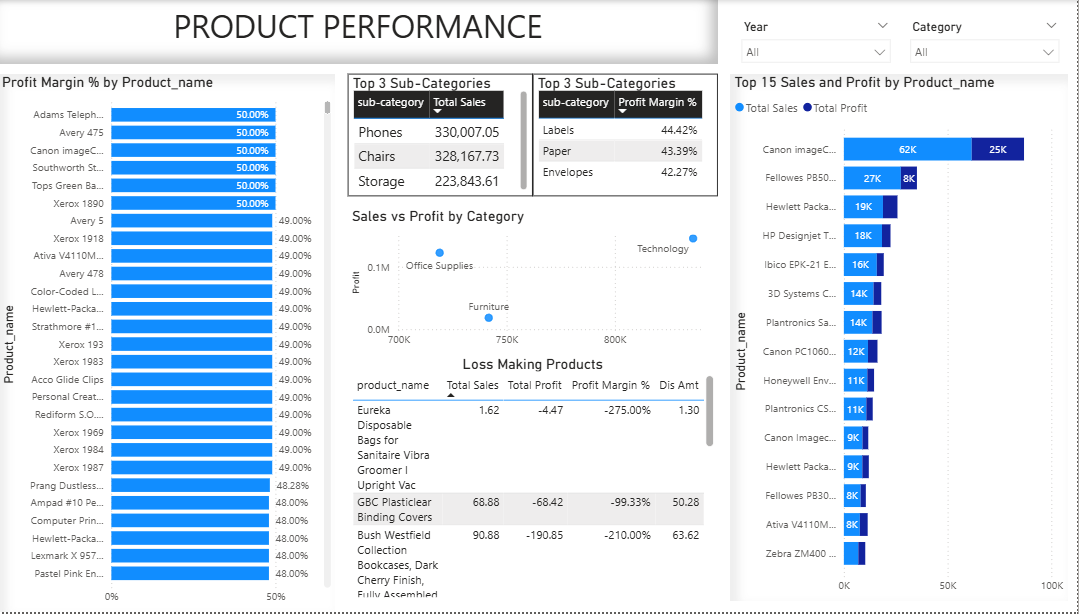

The page's visual inventory and layout, read from the dashboard file:
{"tool":"powerbi","page":{"name":"PRODUCT PERFORMANCE","canvas":[1280,720],"ordinal":3},"visuals":[{"type":"textbox","box":[10.3,0,846.7,75],"z":0},{"type":"tableEx","title":"Top 3 Sub-Categories","fields":{"Values":["orders.sub-category","orders.Total Sales"]},"box":[421.9,86.7,217.5,144.1],"z":1000},{"type":"barChart","title":"Top 15 Sales and Profit by Product_name","fields":{"Category":["products.product_name"],"Y":["orders.Total Sales","orders.Total Profit"]},"box":[871.7,86.7,396.9,620.3],"z":2000},{"type":"barChart","fields":{"Category":["products.product_name"],"Y":["orders.Profit Margin %"]},"box":[10.3,86.7,396.9,633.5],"z":3000},{"type":"tableEx","title":"Top 3 Sub-Categories","fields":{"Values":["orders.sub-category","orders.Profit Margin %"]},"box":[639.4,86.7,217.5,144.1],"z":4000},{"type":"scatterChart","title":"Sales vs Profit by Category","fields":{"X":["orders.Total Sales"],"Y":["orders.Total Profit"],"Category":["products.category"]},"box":[421.9,244,435.1,173.5],"z":5000},{"type":"tableEx","title":"Loss Making Products","fields":{"Values":["products.product_name","orders.Total Sales","orders.Total Profit","orders.Profit Margin %","orders.Total Discount Amount"]},"box":[421.9,417.5,435.1,289.6],"z":6000},{"type":"slicer","fields":{"Values":["DateTable.year"]},"box":[874.6,17.6,195.5,57.3],"z":7000},{"type":"slicer","fields":{"Values":["products.category"]},"box":[1073,17.6,195.5,57.3],"z":8000}]}

Visuals, with their boxes in screenshot pixels (x1, y1, x2, y2), scaled from the page's 1280x720 canvas onto the 1079x614 screenshot:
textbox: box=[9, 0, 722, 64]
"Top 3 Sub-Categories" tableEx: box=[356, 74, 539, 197]
"Top 15 Sales and Profit by Product_name" barChart: box=[735, 74, 1069, 603]
barChart - products.product_name x orders.Profit Margin %: box=[9, 74, 343, 613]
"Top 3 Sub-Categories" tableEx: box=[539, 74, 722, 197]
"Sales vs Profit by Category" scatterChart: box=[356, 208, 722, 356]
"Loss Making Products" tableEx: box=[356, 356, 722, 603]
slicer - DateTable.year: box=[737, 15, 902, 64]
slicer - products.category: box=[905, 15, 1069, 64]
